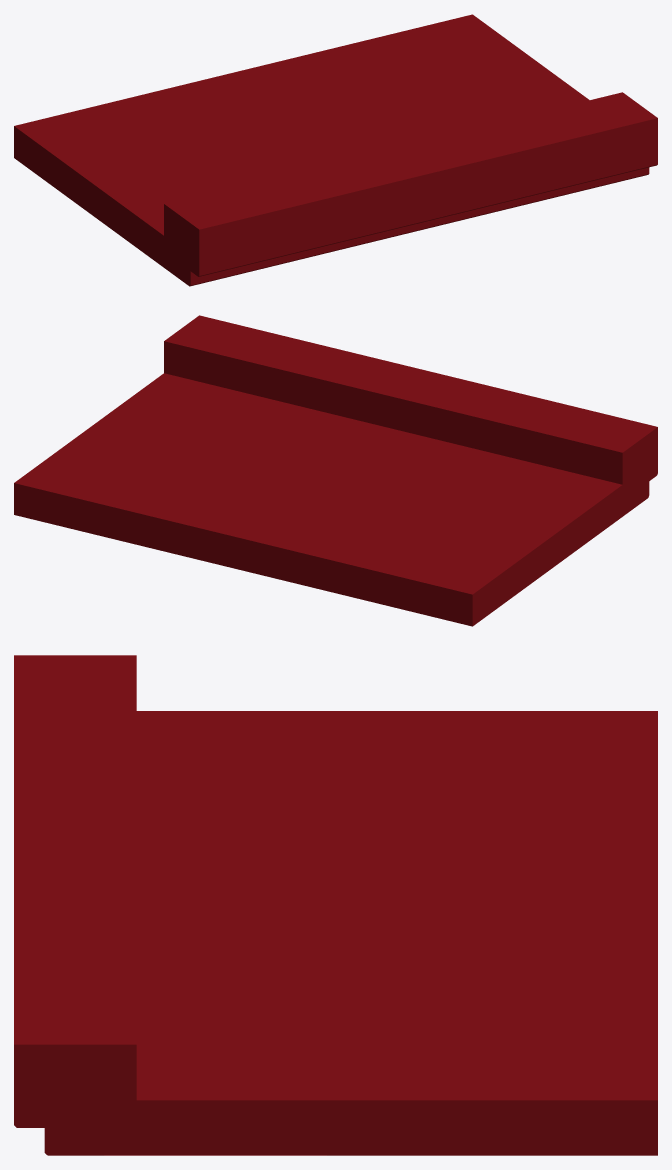
The model's file is SM_MH_01_Wood_Porch_Half_01.fbx.
3 views of the same model, one above another, from view 1: azimuth 30°, elevation 25°; view 2: azimuth 150°, elevation 25°; view 3: azimuth 270°, elevation 25° (orthographic). The views are drawn at different scales.
Parts seen in each view (by area): view 1: SM_MH_01_Wood_Porch_Half_01_LOD0; view 2: SM_MH_01_Wood_Porch_Half_01_LOD0; view 3: SM_MH_01_Wood_Porch_Half_01_LOD0.
Part boxes in pixels (x1,y1,x2,y2): SM_MH_01_Wood_Porch_Half_01_LOD0: (14,14,657,286); SM_MH_01_Wood_Porch_Half_01_LOD0: (14,315,657,626); SM_MH_01_Wood_Porch_Half_01_LOD0: (14,655,657,1155).
Size of what is drawn, in the model's own units: 150 by 20.06 by 105.
